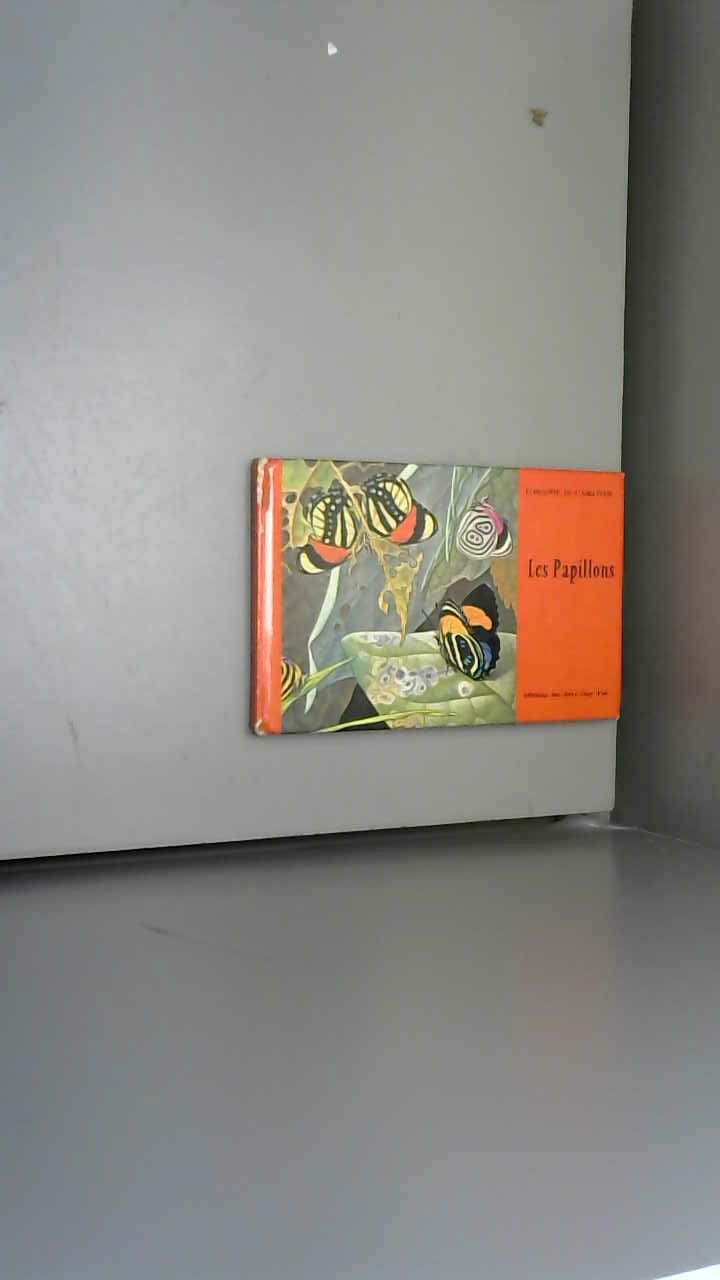book: (207, 426, 659, 763)
